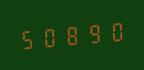eight: (60, 21, 80, 49)
five: (18, 24, 38, 52)
nine: (81, 19, 101, 47)
zero: (39, 22, 59, 51), (102, 17, 122, 45)
